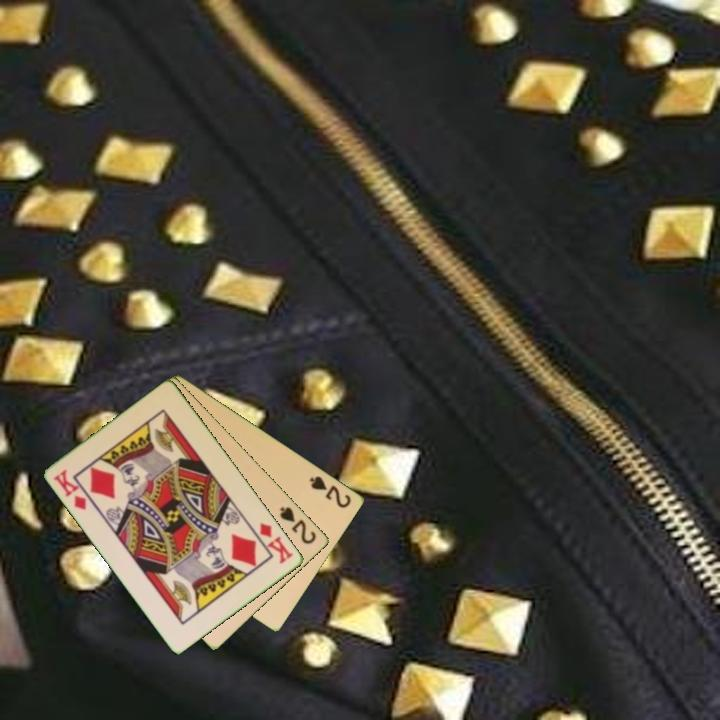2s: (276, 503, 319, 547), (306, 472, 354, 511)
Kd: (256, 519, 296, 567), (50, 466, 90, 513)
